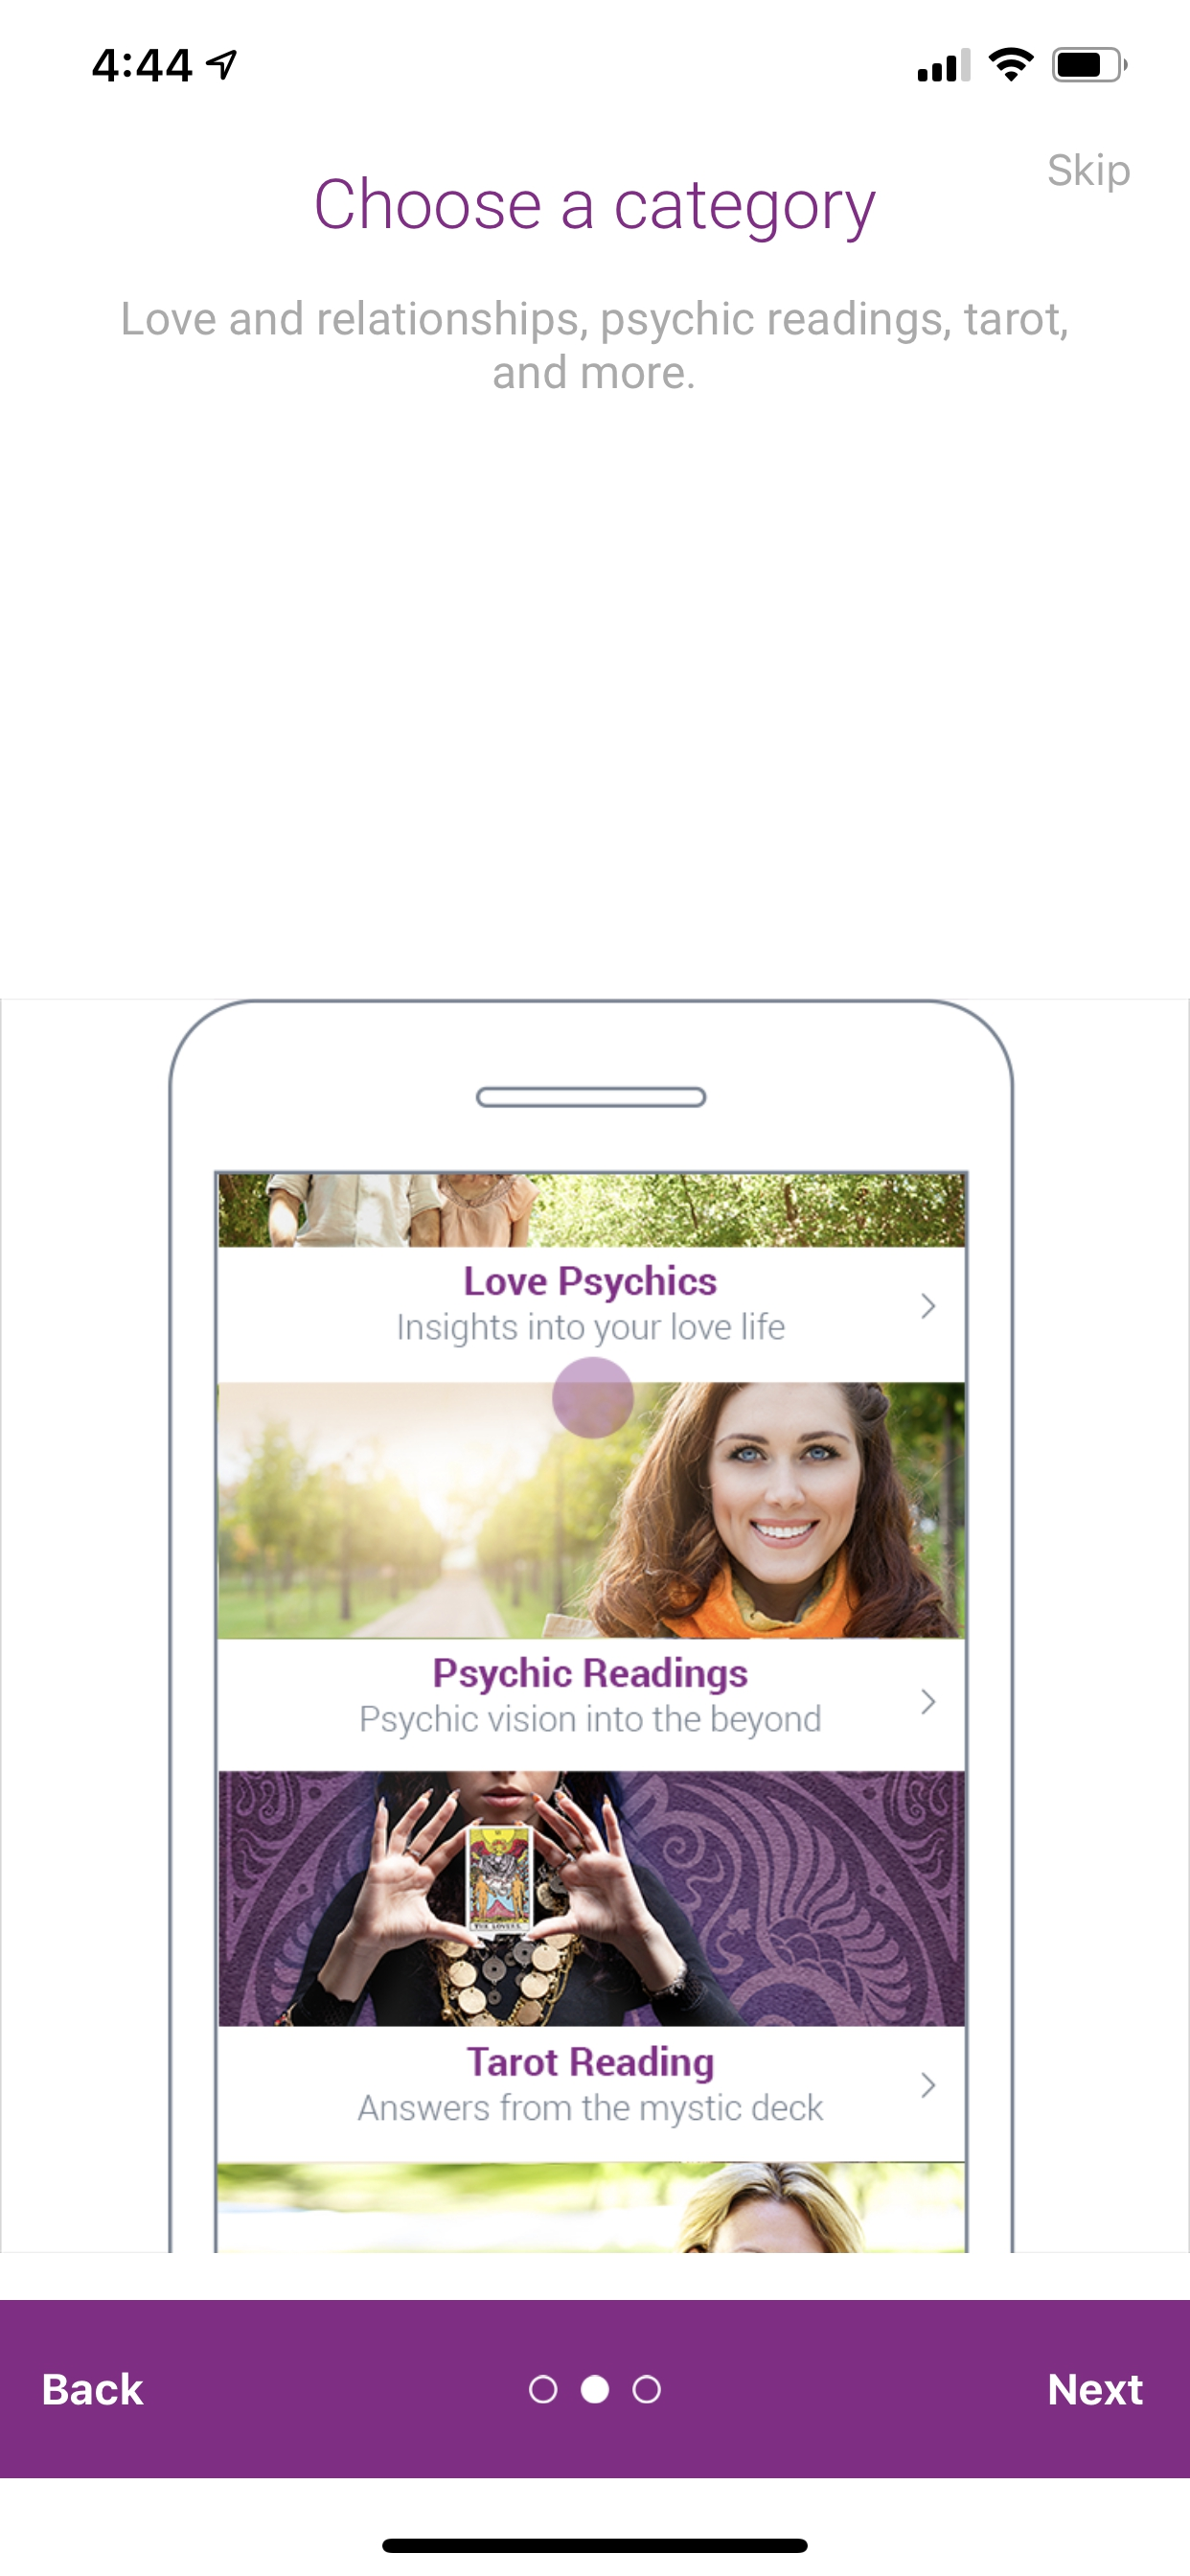Image: (168, 999, 1016, 2252)
PageIndicator: (529, 2374, 662, 2403)
Text: (123, 301, 1067, 389), (316, 176, 876, 245), (43, 2371, 145, 2405), (1049, 154, 1129, 194), (1049, 2372, 1142, 2405)
UpperTaskBar: (94, 48, 1128, 84)
